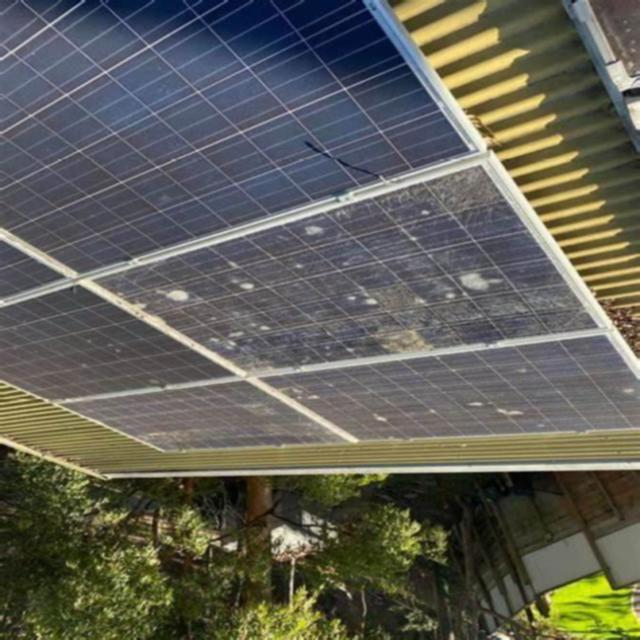soiled: (4, 166, 635, 458)
